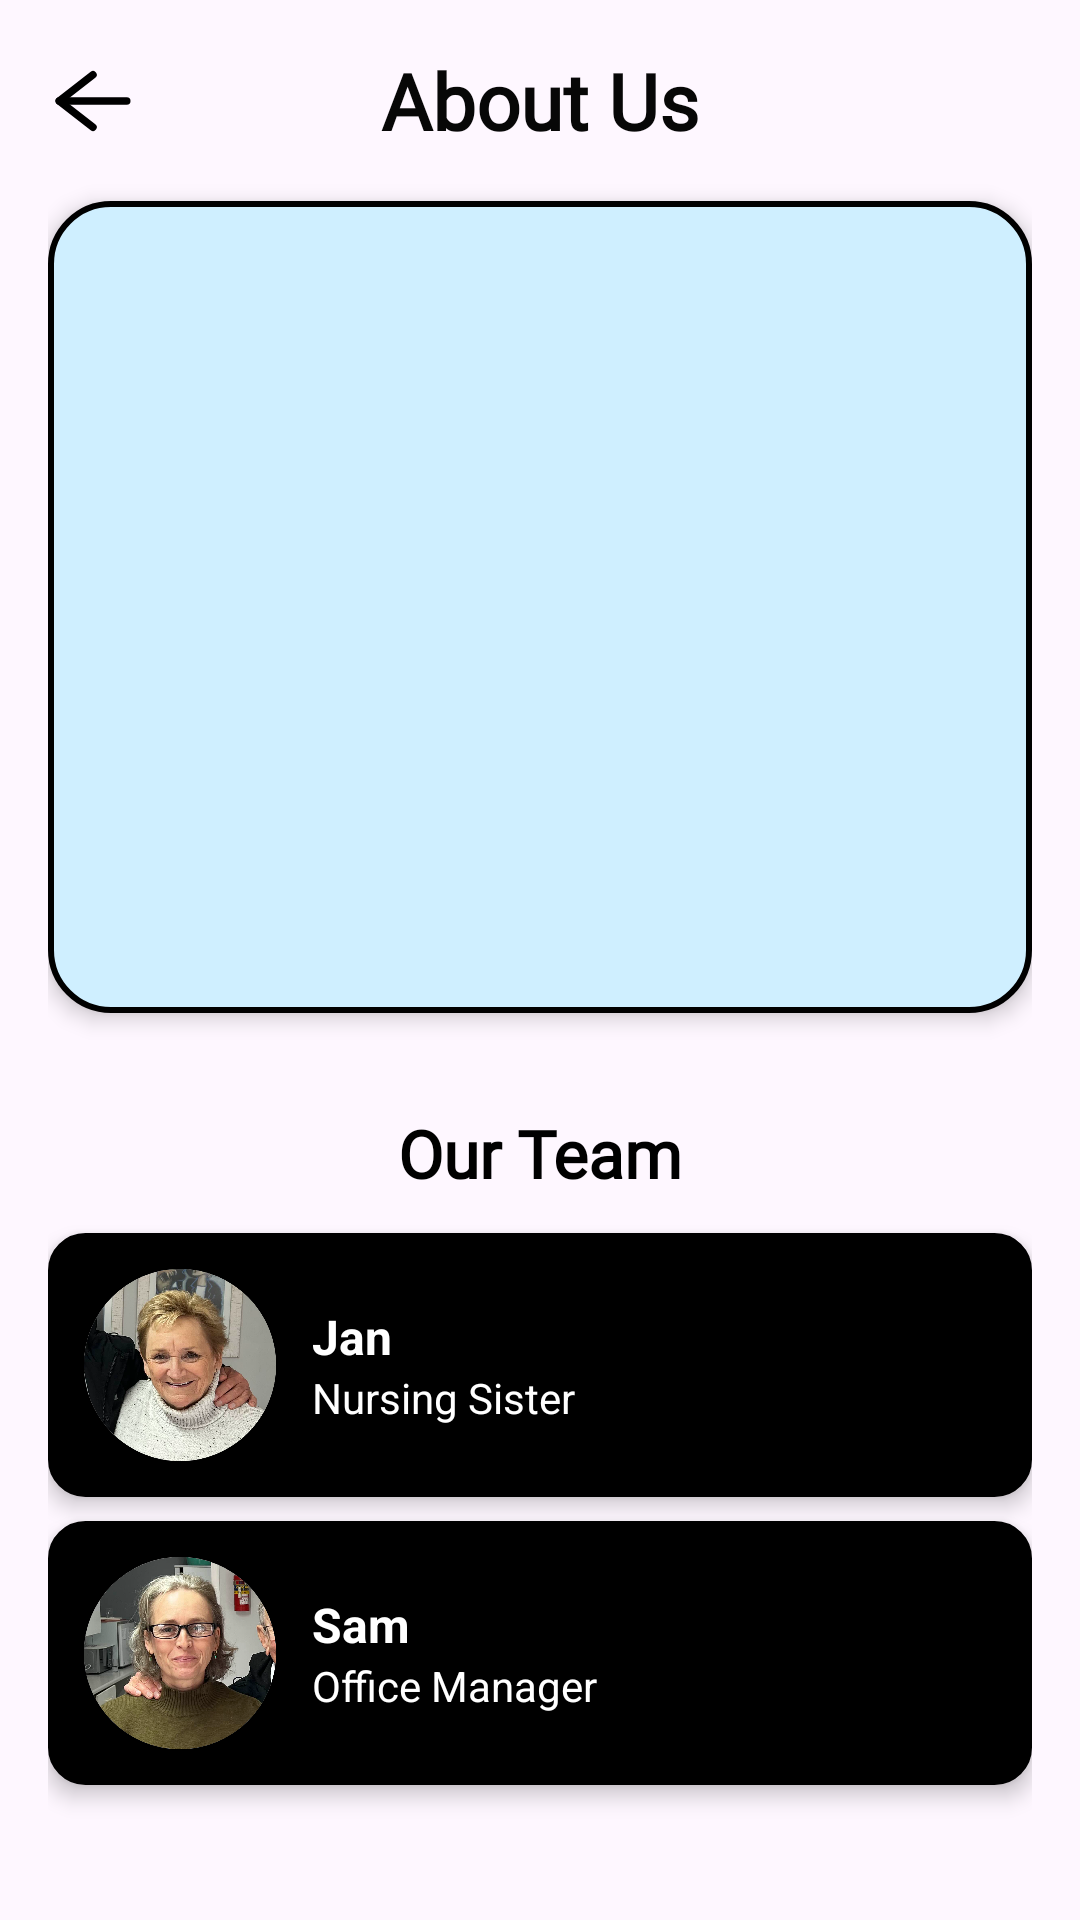

Screen size 1080px x 1920px. Icon name, then its box in pixels as (x1, y1, x2, y2):
Back: (55, 70, 131, 132)
